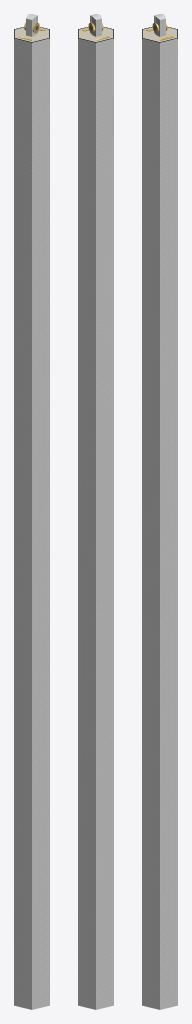
The model's file is Building 5.fbx.
3 renders of one model, left to right at view 1: azimuth 90°, elevation 25°; view 2: azimuth 150°, elevation 25°; view 3: azimuth 330°, elevation 25°, orthographic.
Visible parts, largest first — view 1: Building_5; view 2: Building_5; view 3: Building_5.
Boxes of the visible parts, left/top/right/bottom form: Building_5: left=14, top=14, right=49, bottom=1009; Building_5: left=78, top=14, right=113, bottom=1009; Building_5: left=142, top=14, right=177, bottom=1009.
Bounding box in the file's own units: 23.65 × 622 × 20.49.
7 materials, 6 textured.
